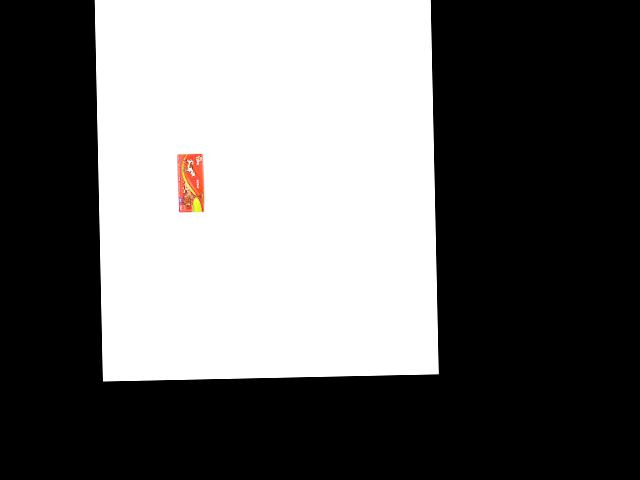chocolate: (171, 149, 206, 213)
